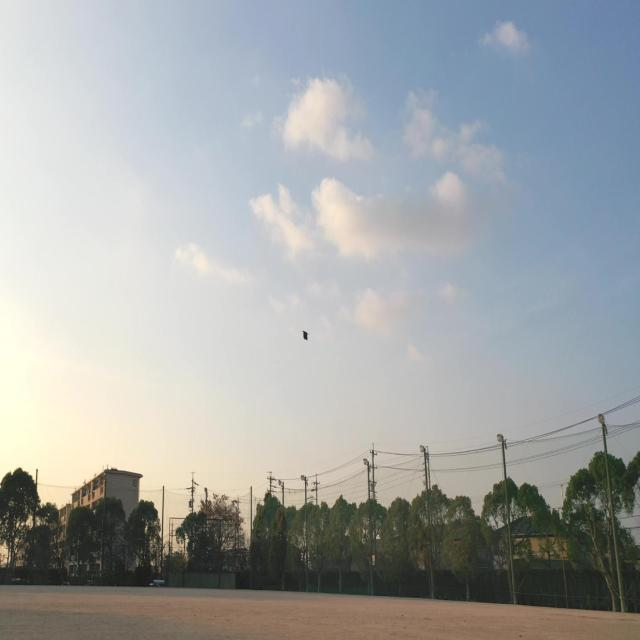Birds: (294, 324, 314, 344)
